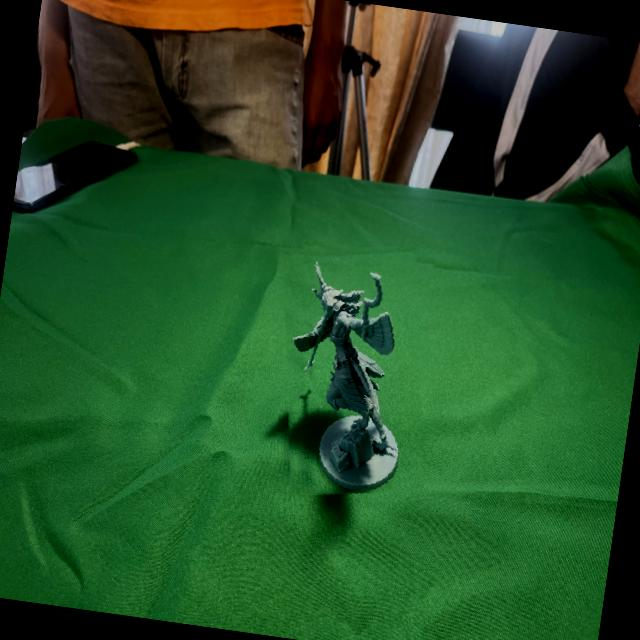isis: (259, 234, 446, 508)
